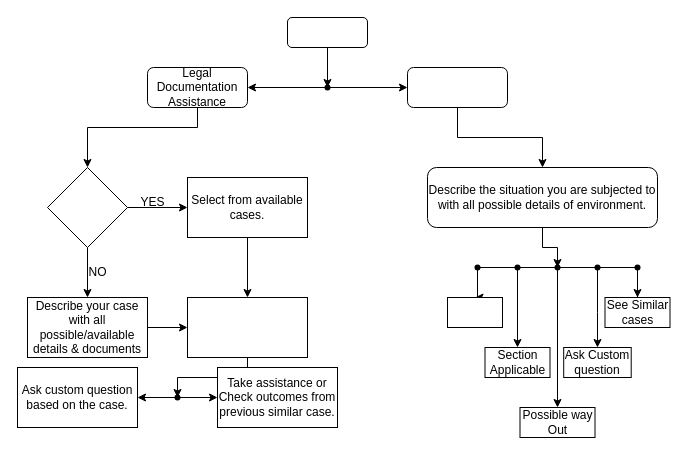
This 688x455 diagram has some shape labels left out. Each missing label, with the centre of its shape:
"Already registered Case?" goes at (87,207).
"Get summarized details, progress in the case, and Key points." goes at (247,327).
"Help for Legal Assistance" goes at (457,87).
"Login" goes at (327,32).
"See Outcomes" goes at (474,312).
